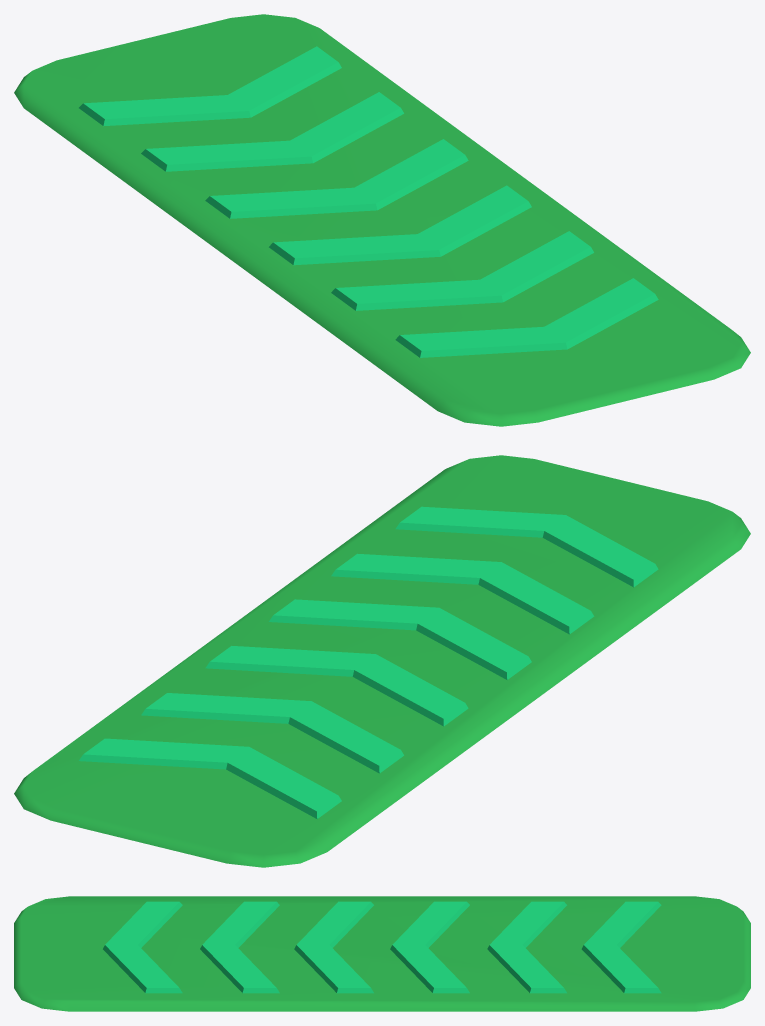
Rendered from BoostUp.fbx.
3 renders of one model, top to bottom at view 1: azimuth 30°, elevation 25°; view 2: azimuth 150°, elevation 25°; view 3: azimuth 270°, elevation 25°, orthographic. The views are drawn at different scales.
Visible parts, largest first — view 1: BoostUp; view 2: BoostUp; view 3: BoostUp.
Boxes of the visible parts, x1=… form: BoostUp: x1=14, y1=14, x2=750, y2=426; BoostUp: x1=14, y1=455, x2=750, y2=867; BoostUp: x1=14, y1=896, x2=750, y2=1011.
Bounding box in the file's own units: 150 × 6.78 × 416.
